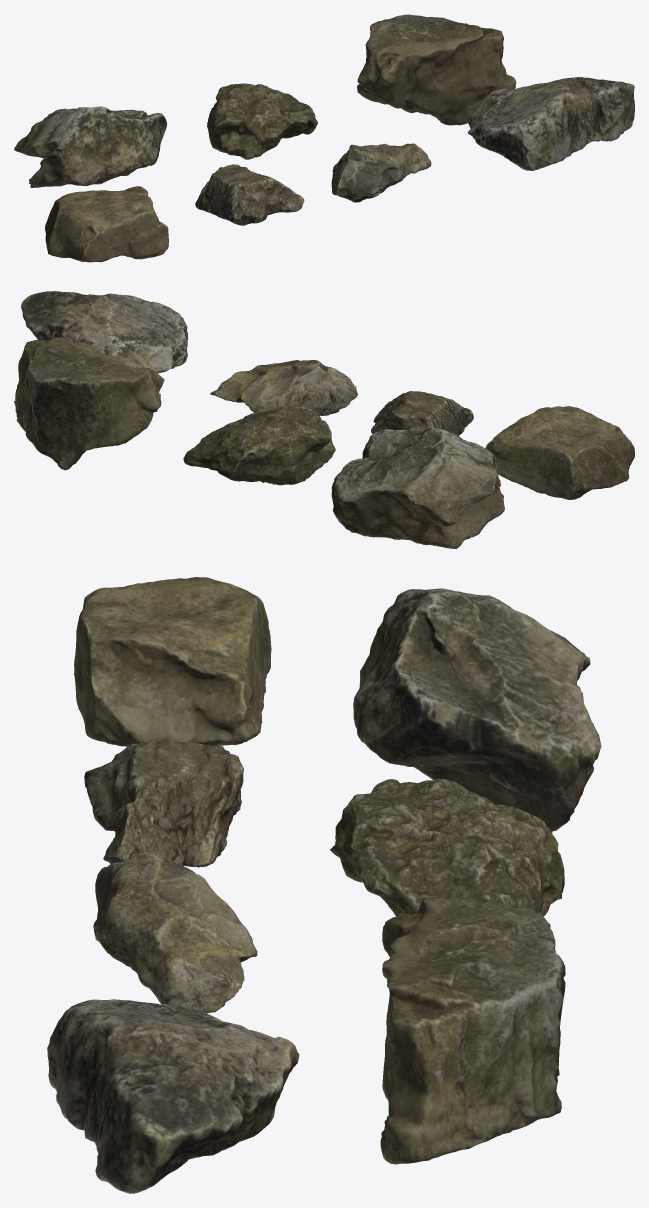
File: rock_moss_set_02.glb
The picture shows the model from 3 angles, top to bottom: view 1: azimuth 30°, elevation 25°; view 2: azimuth 150°, elevation 25°; view 3: azimuth 270°, elevation 25°; orthographic projection. The views are drawn at different scales.
Visible parts, largest first — view 1: rock_moss_set_02_rock13, rock_moss_set_02_rock10, rock_moss_set_02_rock11, rock_moss_set_02_rock07, rock_moss_set_02_rock12, rock_moss_set_02_rock08, rock_moss_set_02_rock09; view 2: rock_moss_set_02_rock11, rock_moss_set_02_rock13, rock_moss_set_02_rock07, rock_moss_set_02_rock10, rock_moss_set_02_rock12, rock_moss_set_02_rock09, rock_moss_set_02_rock08; view 3: rock_moss_set_02_rock13, rock_moss_set_02_rock11, rock_moss_set_02_rock10, rock_moss_set_02_rock07, rock_moss_set_02_rock12, rock_moss_set_02_rock09, rock_moss_set_02_rock08.
Part boxes in pixels (box(x1,y1,x2,y2)): rock_moss_set_02_rock13: box(357, 14, 516, 125); rock_moss_set_02_rock10: box(467, 77, 634, 170); rock_moss_set_02_rock11: box(14, 106, 166, 187); rock_moss_set_02_rock07: box(45, 186, 168, 262); rock_moss_set_02_rock12: box(207, 83, 317, 159); rock_moss_set_02_rock08: box(195, 164, 304, 225); rock_moss_set_02_rock09: box(331, 143, 431, 202); rock_moss_set_02_rock11: box(331, 427, 504, 548); rock_moss_set_02_rock13: box(14, 337, 164, 470); rock_moss_set_02_rock07: box(485, 406, 634, 499); rock_moss_set_02_rock10: box(21, 291, 187, 373); rock_moss_set_02_rock12: box(183, 406, 335, 485); rock_moss_set_02_rock09: box(210, 360, 357, 415); rock_moss_set_02_rock08: box(371, 391, 473, 435); rock_moss_set_02_rock13: box(380, 895, 565, 1164); rock_moss_set_02_rock11: box(353, 588, 601, 833); rock_moss_set_02_rock10: box(47, 999, 299, 1193); rock_moss_set_02_rock07: box(74, 577, 271, 746); rock_moss_set_02_rock12: box(330, 779, 564, 927); rock_moss_set_02_rock09: box(93, 851, 257, 1013); rock_moss_set_02_rock08: box(84, 741, 243, 867).
Size of the model in its own units: 8.28 by 1.37 by 3.41.
Materials: 1 (1 with a texture image).
